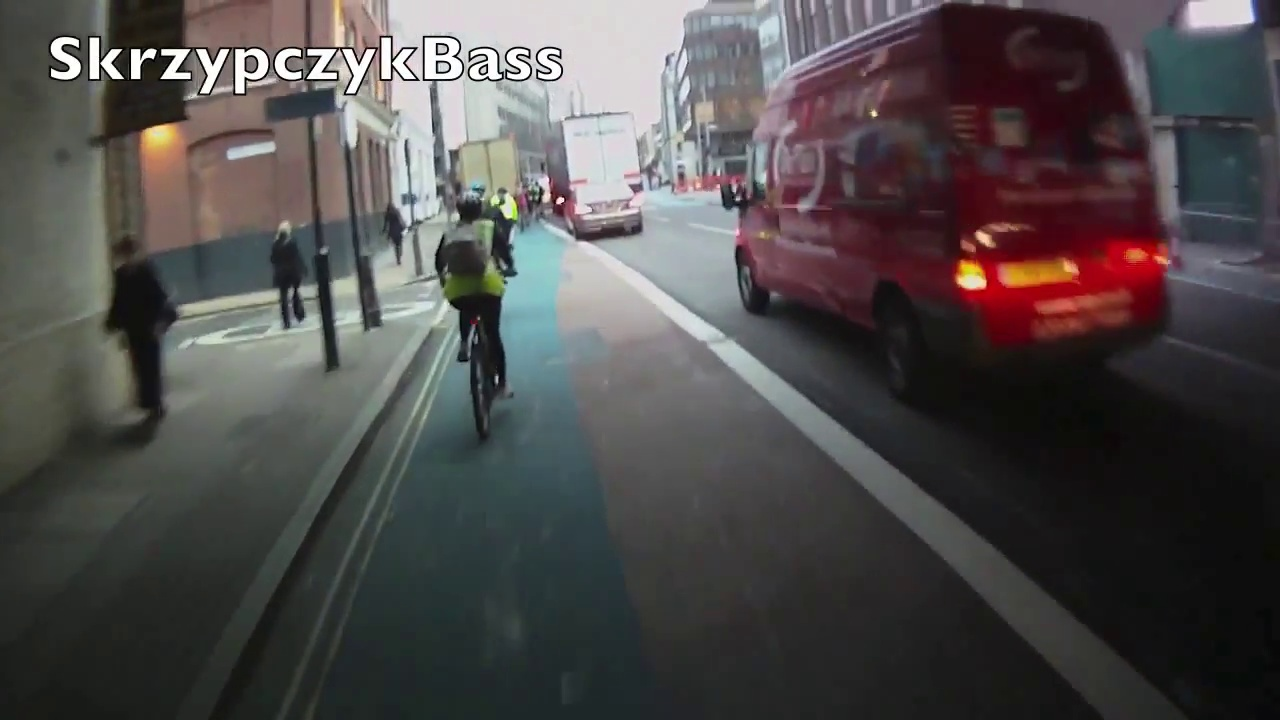cyclist_back: (431, 190, 522, 435)
